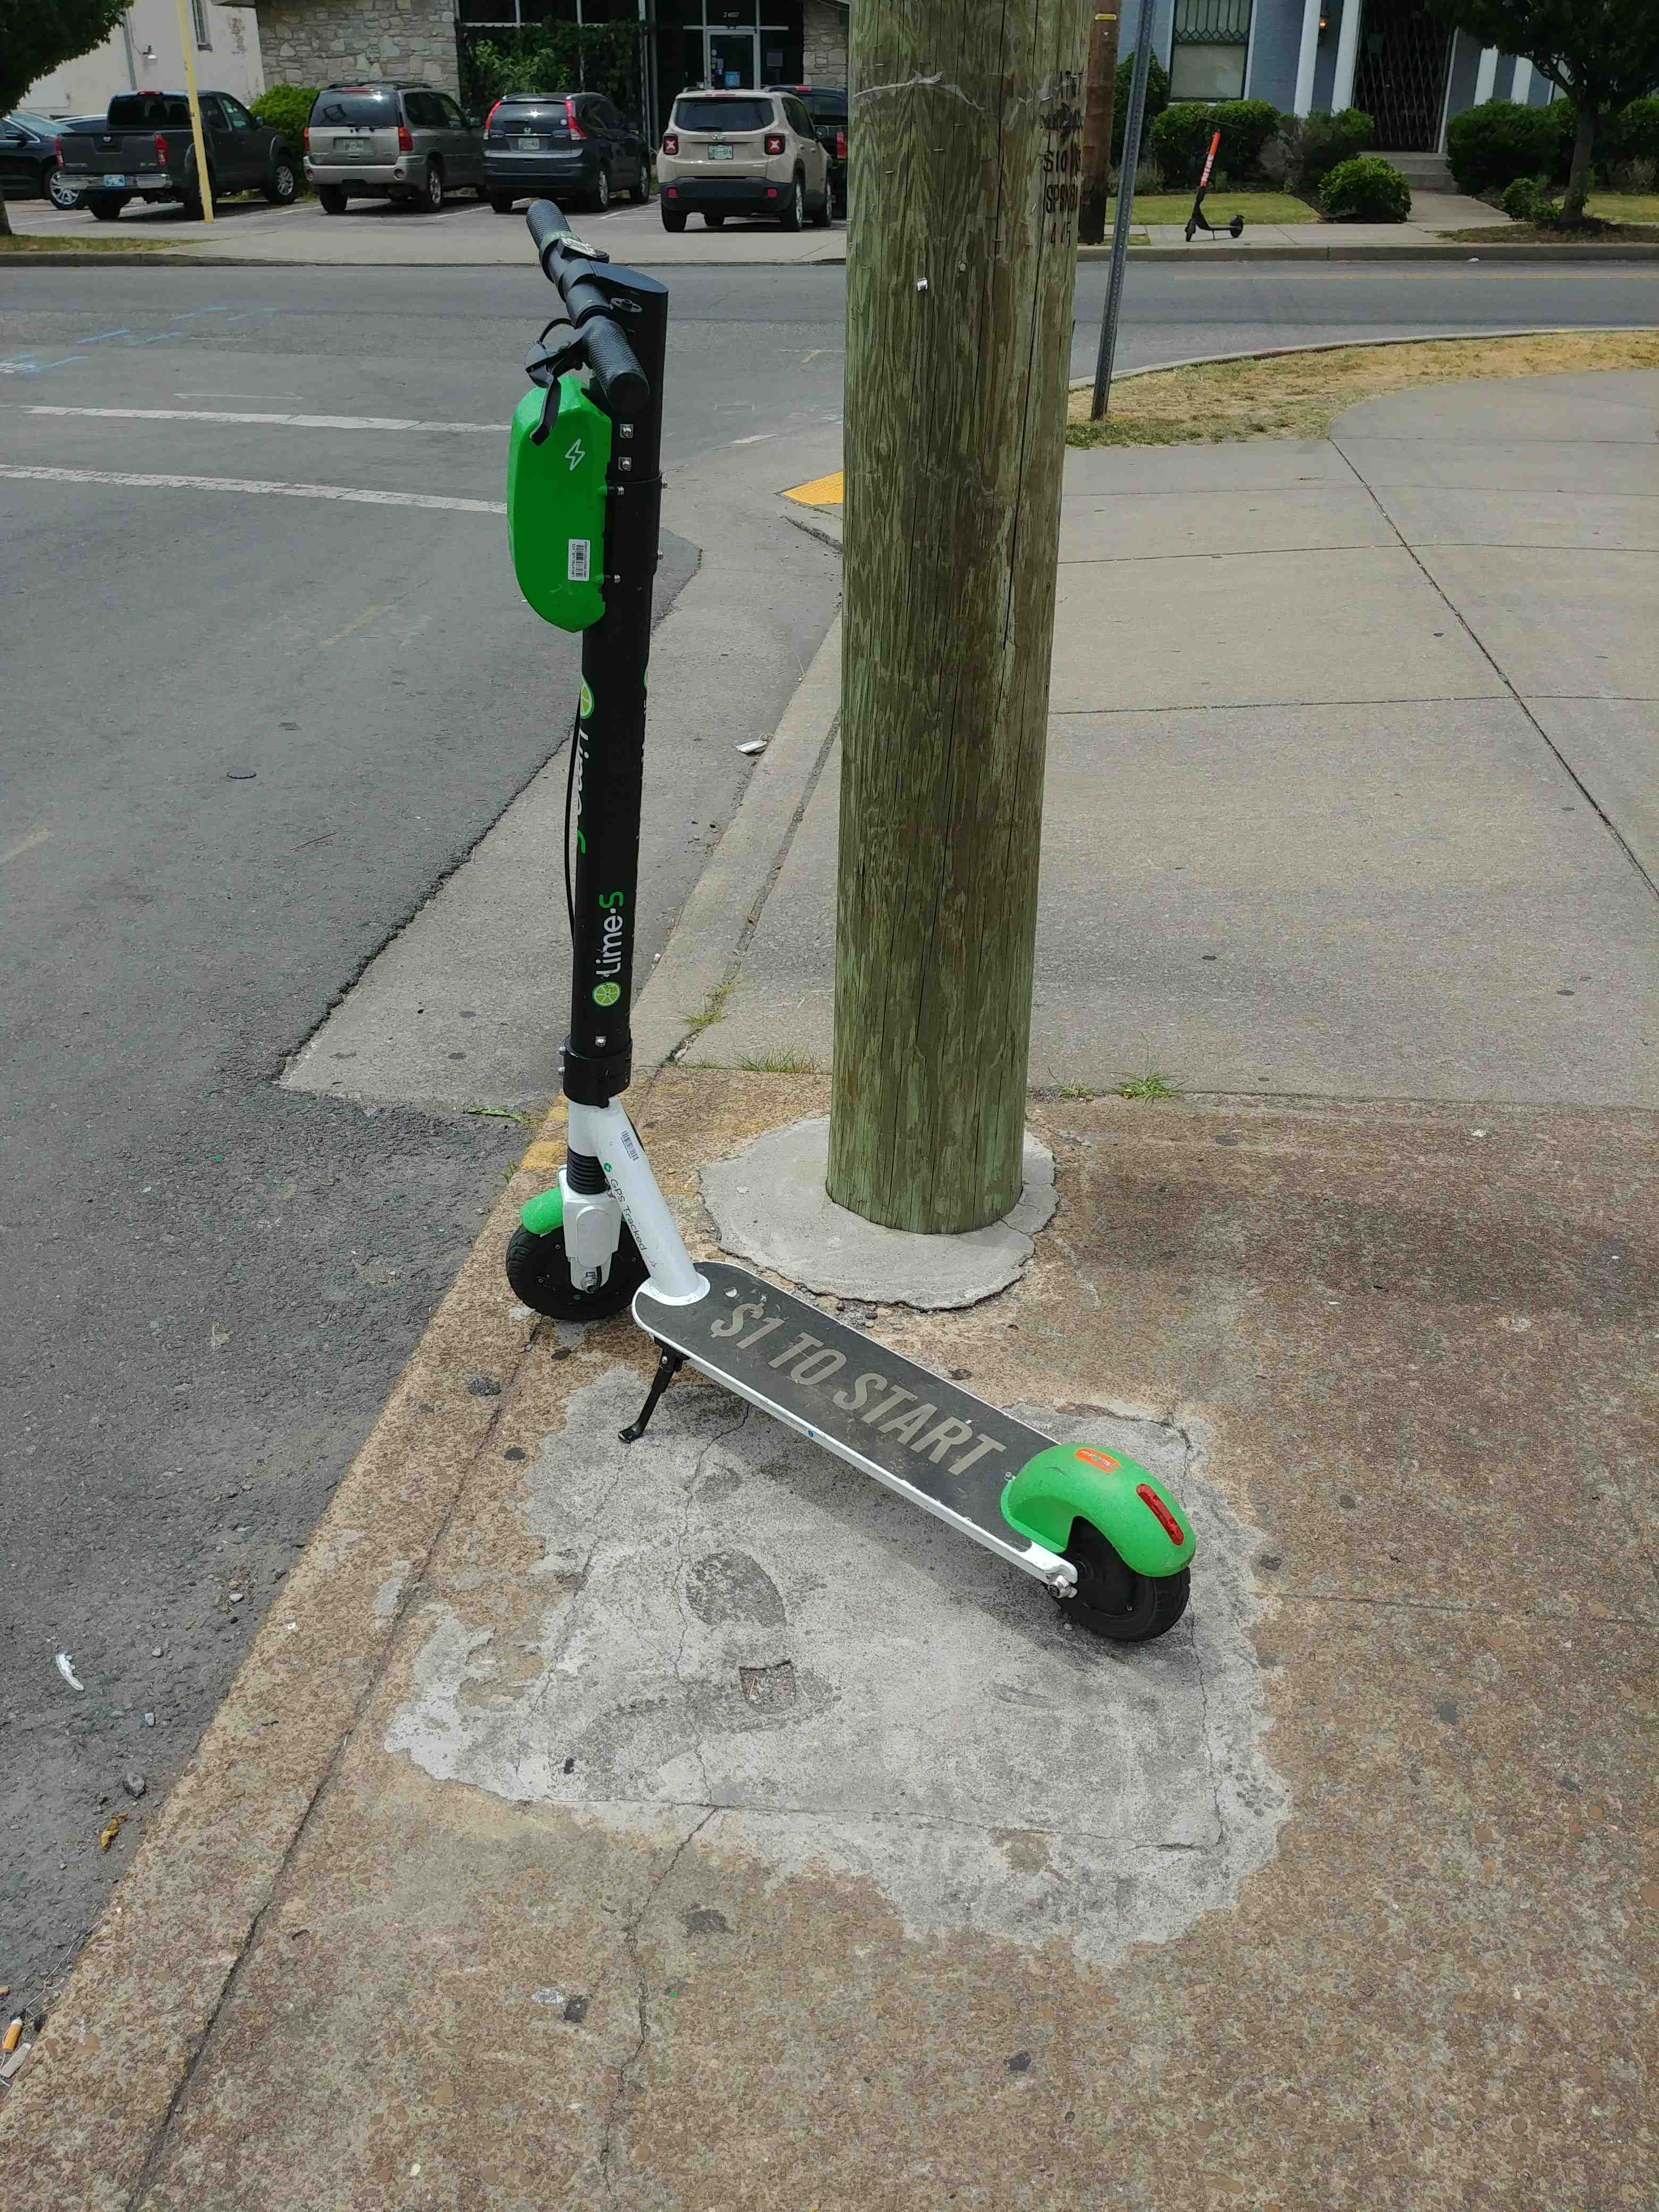too close: (404, 1123, 737, 1426)
